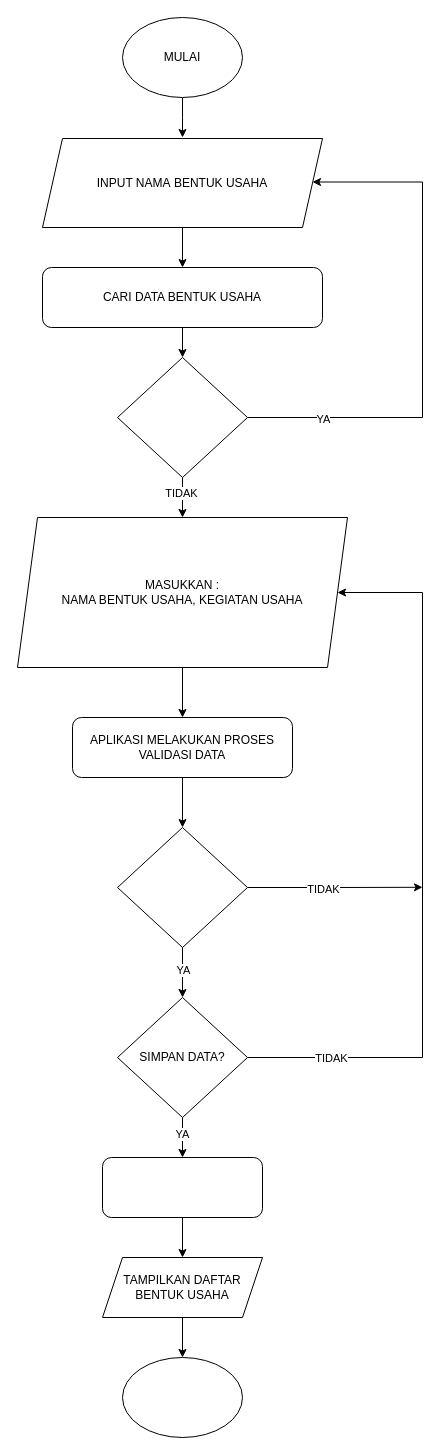
The diagram is 448 pixels wide and 1455 high, and some of its shapes have lost their labels. The shapes that lost their labels are listed below. From the top down, each one's box as (x1, y1, x2, y2) in pixels, then its label:
(116, 356, 248, 478): DATA DITEMUKAN?
(116, 826, 248, 948): DATA VALID?
(102, 1156, 262, 1218): PROSES SIMPAN DATA
(122, 1356, 242, 1438): SELESAI
